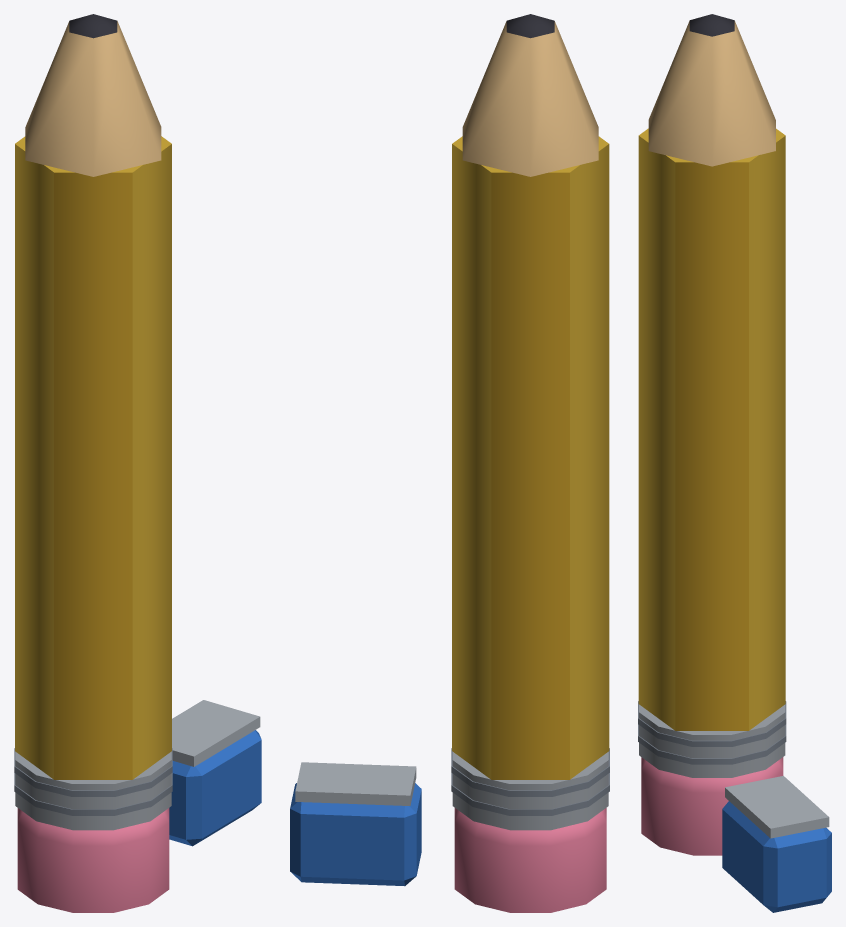
Rendered from school-deco3.glb.
3 renders of one model, left to right at view 1: azimuth 30°, elevation 25°; view 2: azimuth 150°, elevation 25°; view 3: azimuth 270°, elevation 25°, orthographic. The views are drawn at different scales.
Visible parts, largest first — view 1: school-deco3; view 2: school-deco3; view 3: school-deco3.
Part boxes in pixels (bbox=[...]): school-deco3: bbox=[14, 14, 261, 912]; school-deco3: bbox=[290, 14, 609, 912]; school-deco3: bbox=[638, 14, 831, 912].
Bounding box in the file's own units: 1.34 × 4.14 × 0.8966.
